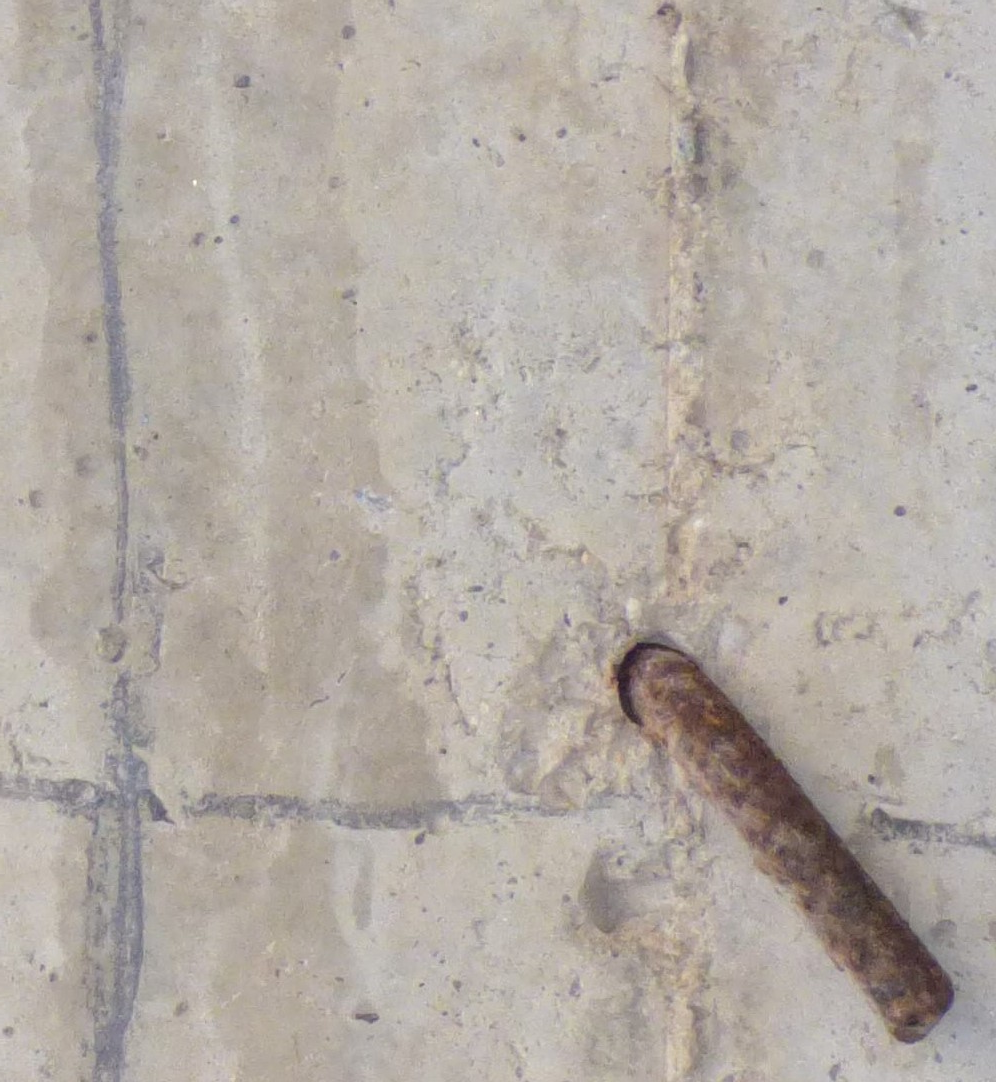Exposed reinforcement: (627, 645, 955, 1045)
